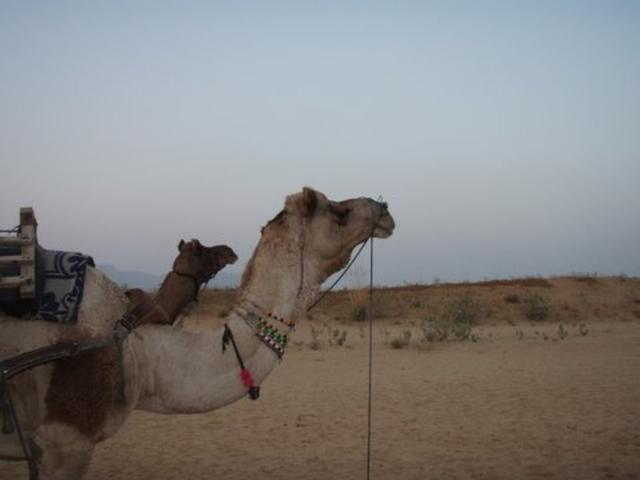camel: (5, 132, 462, 479)
